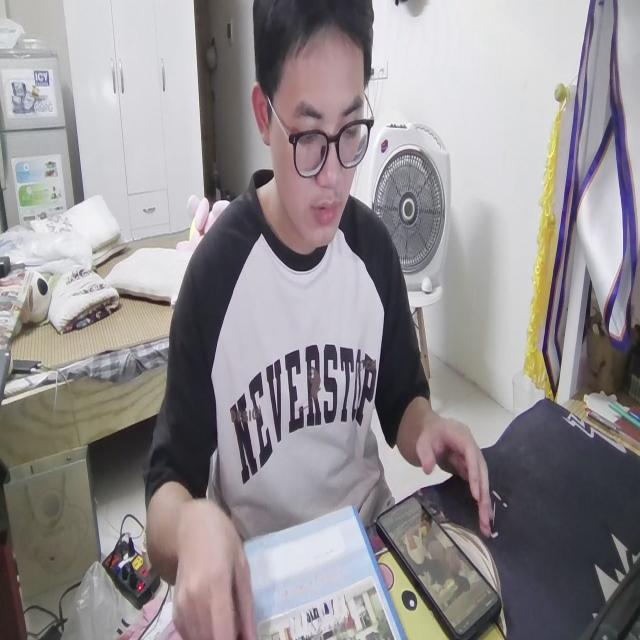book: (236, 501, 407, 640)
phone: (378, 487, 500, 640)
student: (141, 0, 496, 640)
